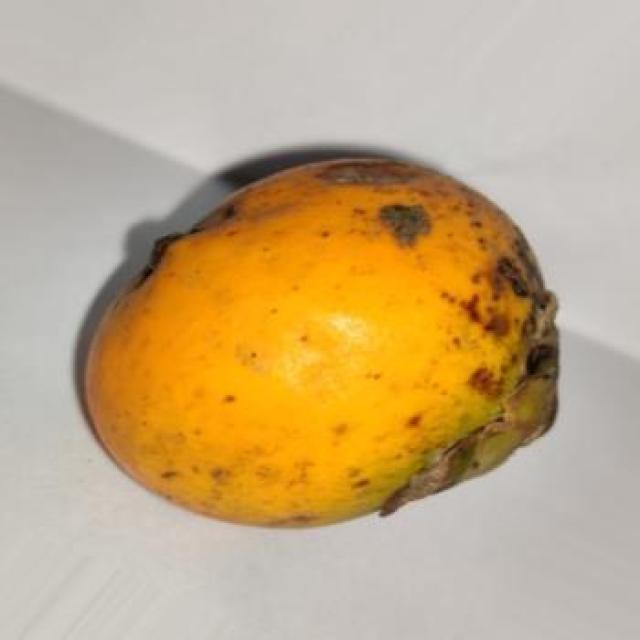good: (77, 155, 560, 530)
